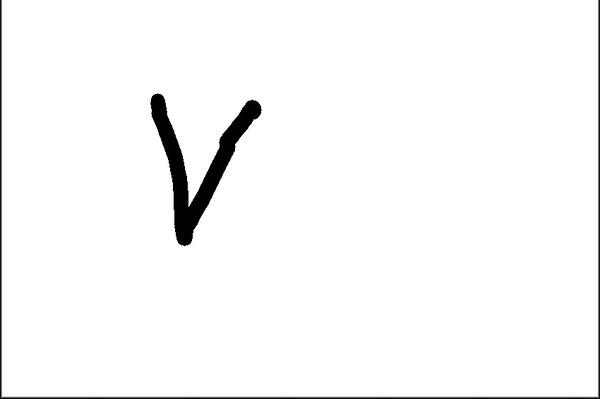V: (143, 86, 273, 249)
